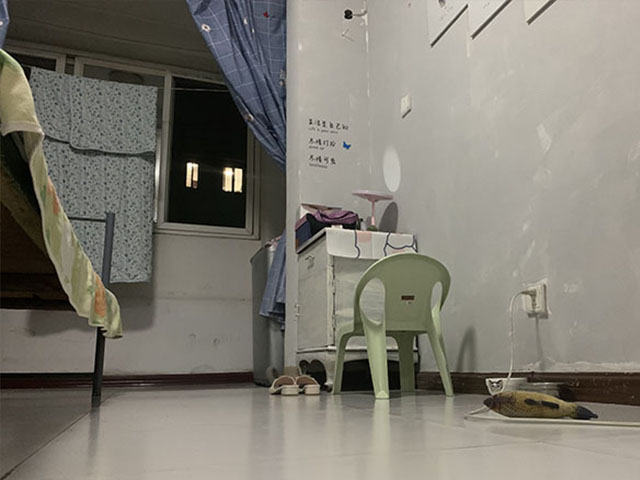bed: (1, 45, 125, 398)
cabinet: (295, 225, 421, 393)
slippers: (267, 370, 300, 397), (297, 372, 322, 395)
stool: (331, 250, 456, 399)
wire: (466, 280, 636, 431)
